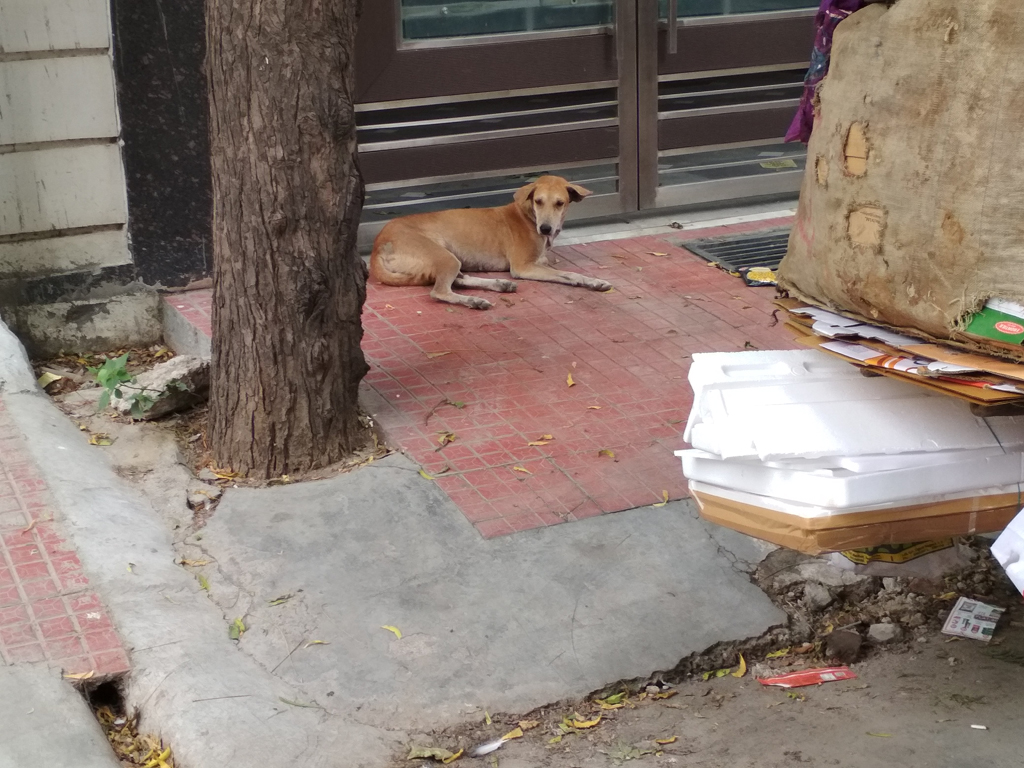dog: (370, 176, 611, 309)
